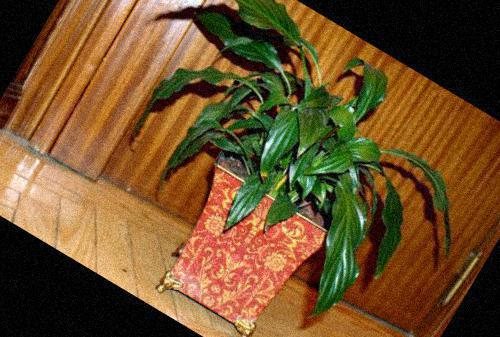Matera: (22, 0, 500, 337)
